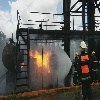fire: (29, 48, 52, 75), (21, 62, 24, 69)
